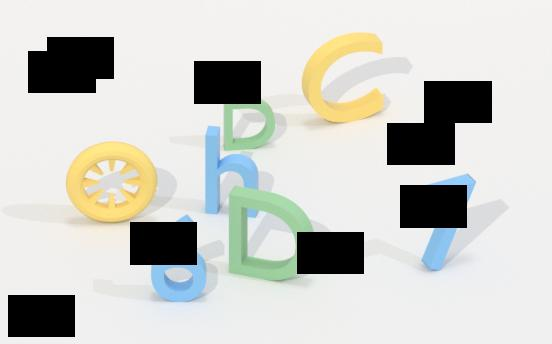6: (151, 213, 208, 306)
7: (412, 169, 477, 274)
c: (298, 26, 389, 129)
d: (225, 183, 320, 285), (218, 91, 278, 154)
h: (201, 119, 262, 222)
tron: (58, 137, 160, 230)
